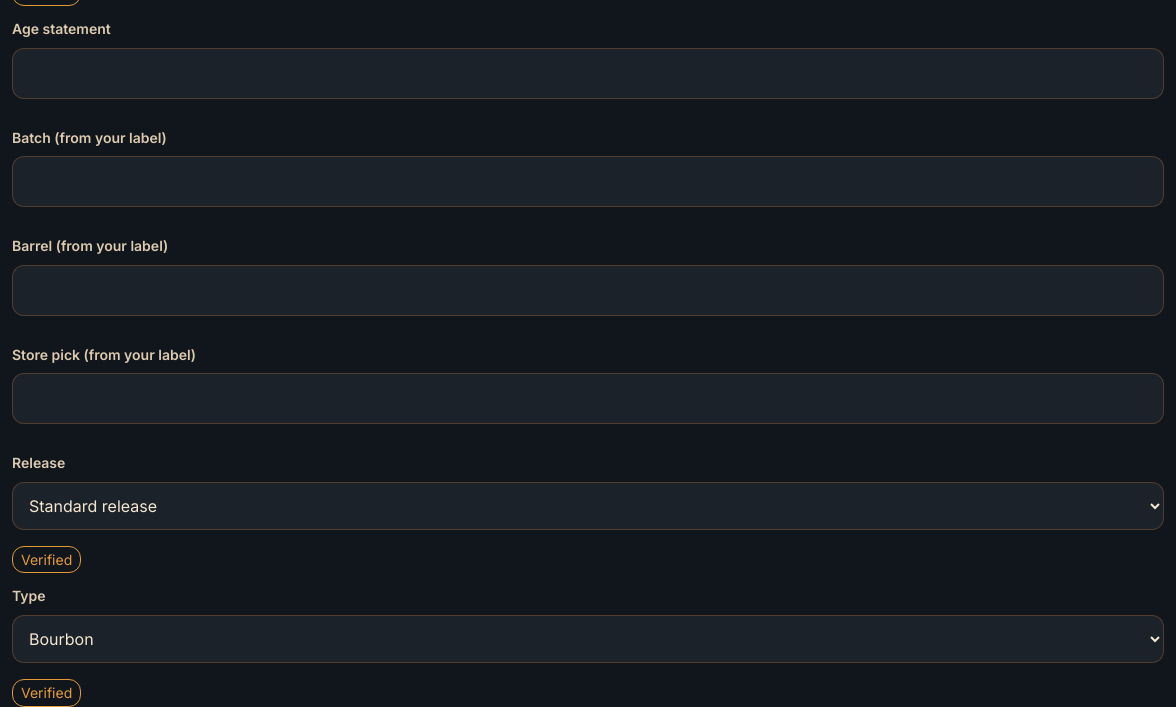
BarcodeBottleForm › tags anything the user types as theirs
This screenshot has width=1176, height=707.
(page scrolled)
Step 1. Type "Store A" into the field labelled "Store pick (from your label)" → (588, 399), box left=12, top=373, right=1164, bottom=424
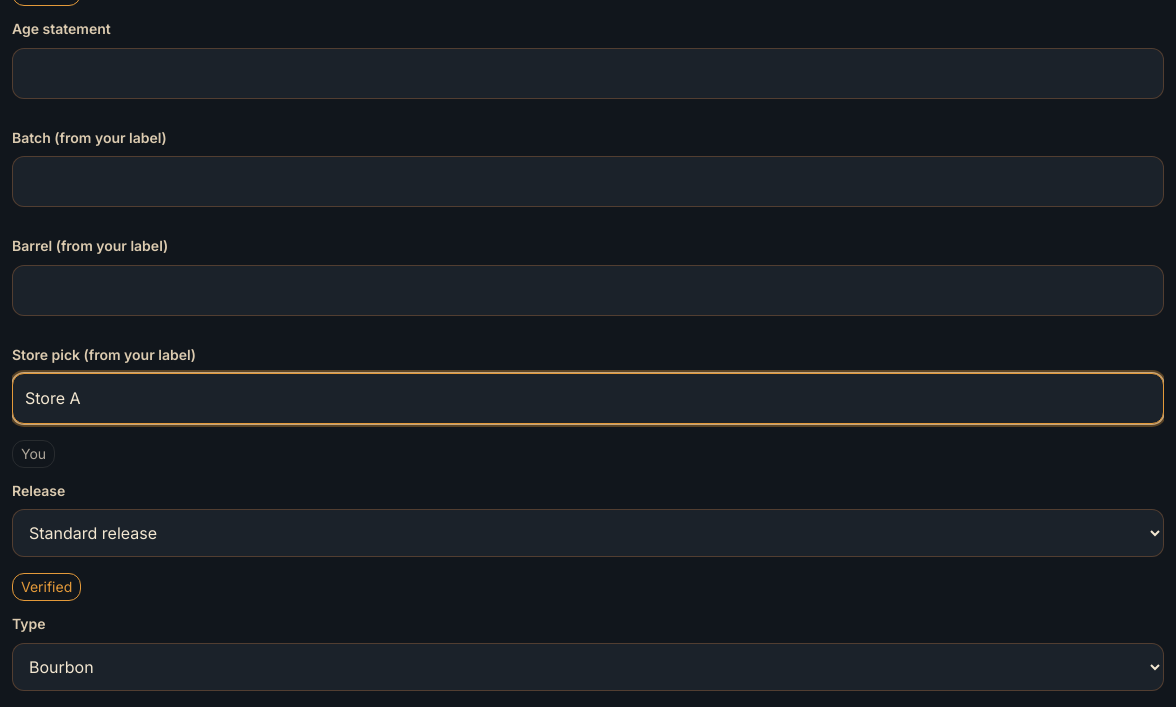
Now the text "You" is shown, box left=12, top=440, right=55, bottom=468
